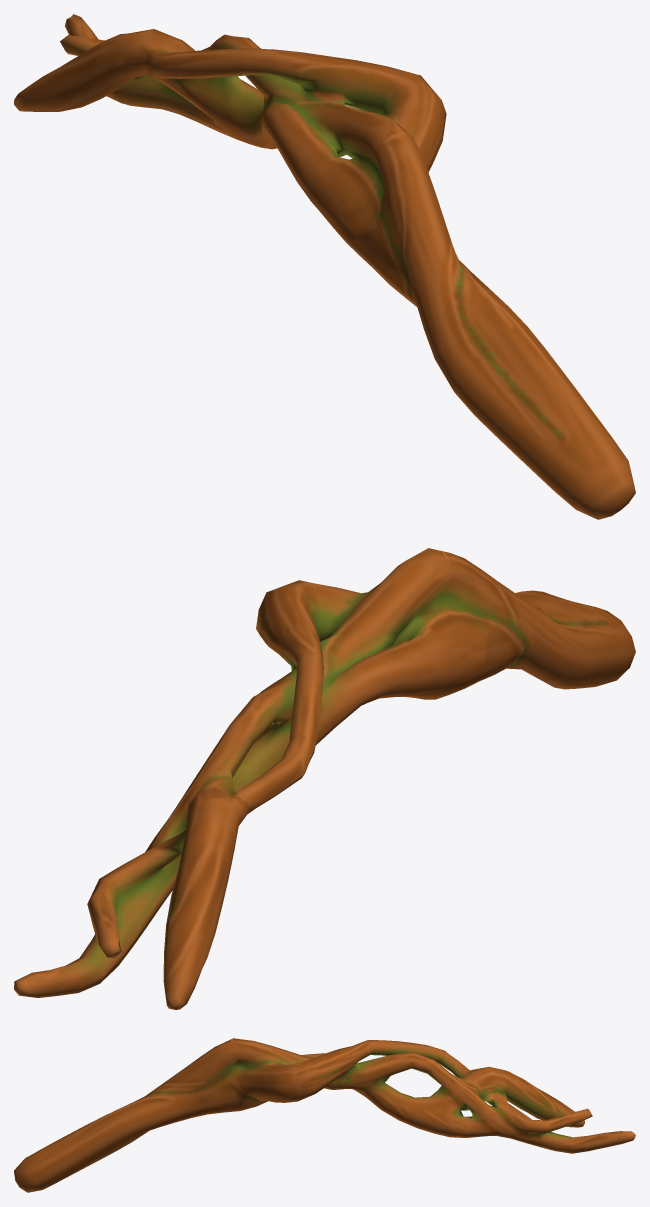
The model's file is kok_3.fbx.
3 renders of one model, top to bottom at view 1: azimuth 30°, elevation 25°; view 2: azimuth 150°, elevation 25°; view 3: azimuth 270°, elevation 25°, orthographic. The views are drawn at different scales.
Parts seen in each view (by area): view 1: Retopo_kok3; view 2: Retopo_kok3; view 3: Retopo_kok3.
Part boxes in pixels (left/top/right/bottom): Retopo_kok3: left=14, top=14, right=635, bottom=519; Retopo_kok3: left=14, top=548, right=635, bottom=1009; Retopo_kok3: left=14, top=1038, right=635, bottom=1192.
Bounding box in the file's own units: 286 × 408 × 1582.
